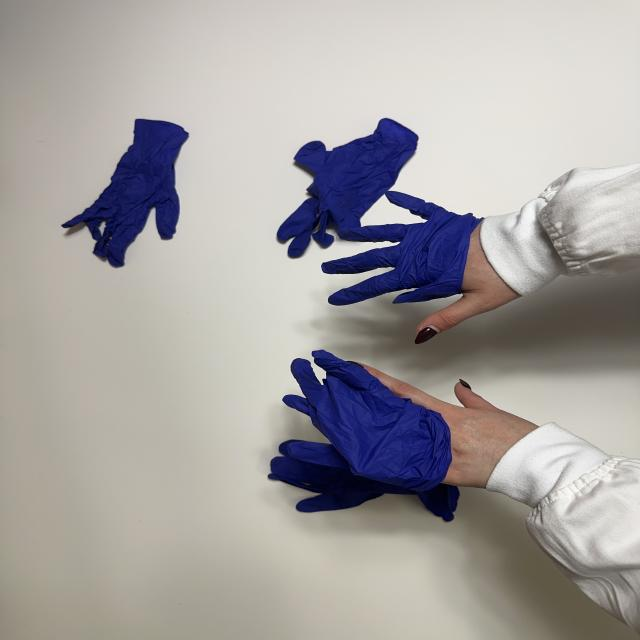glove_partial: (287, 348, 552, 496), (320, 189, 534, 345)
